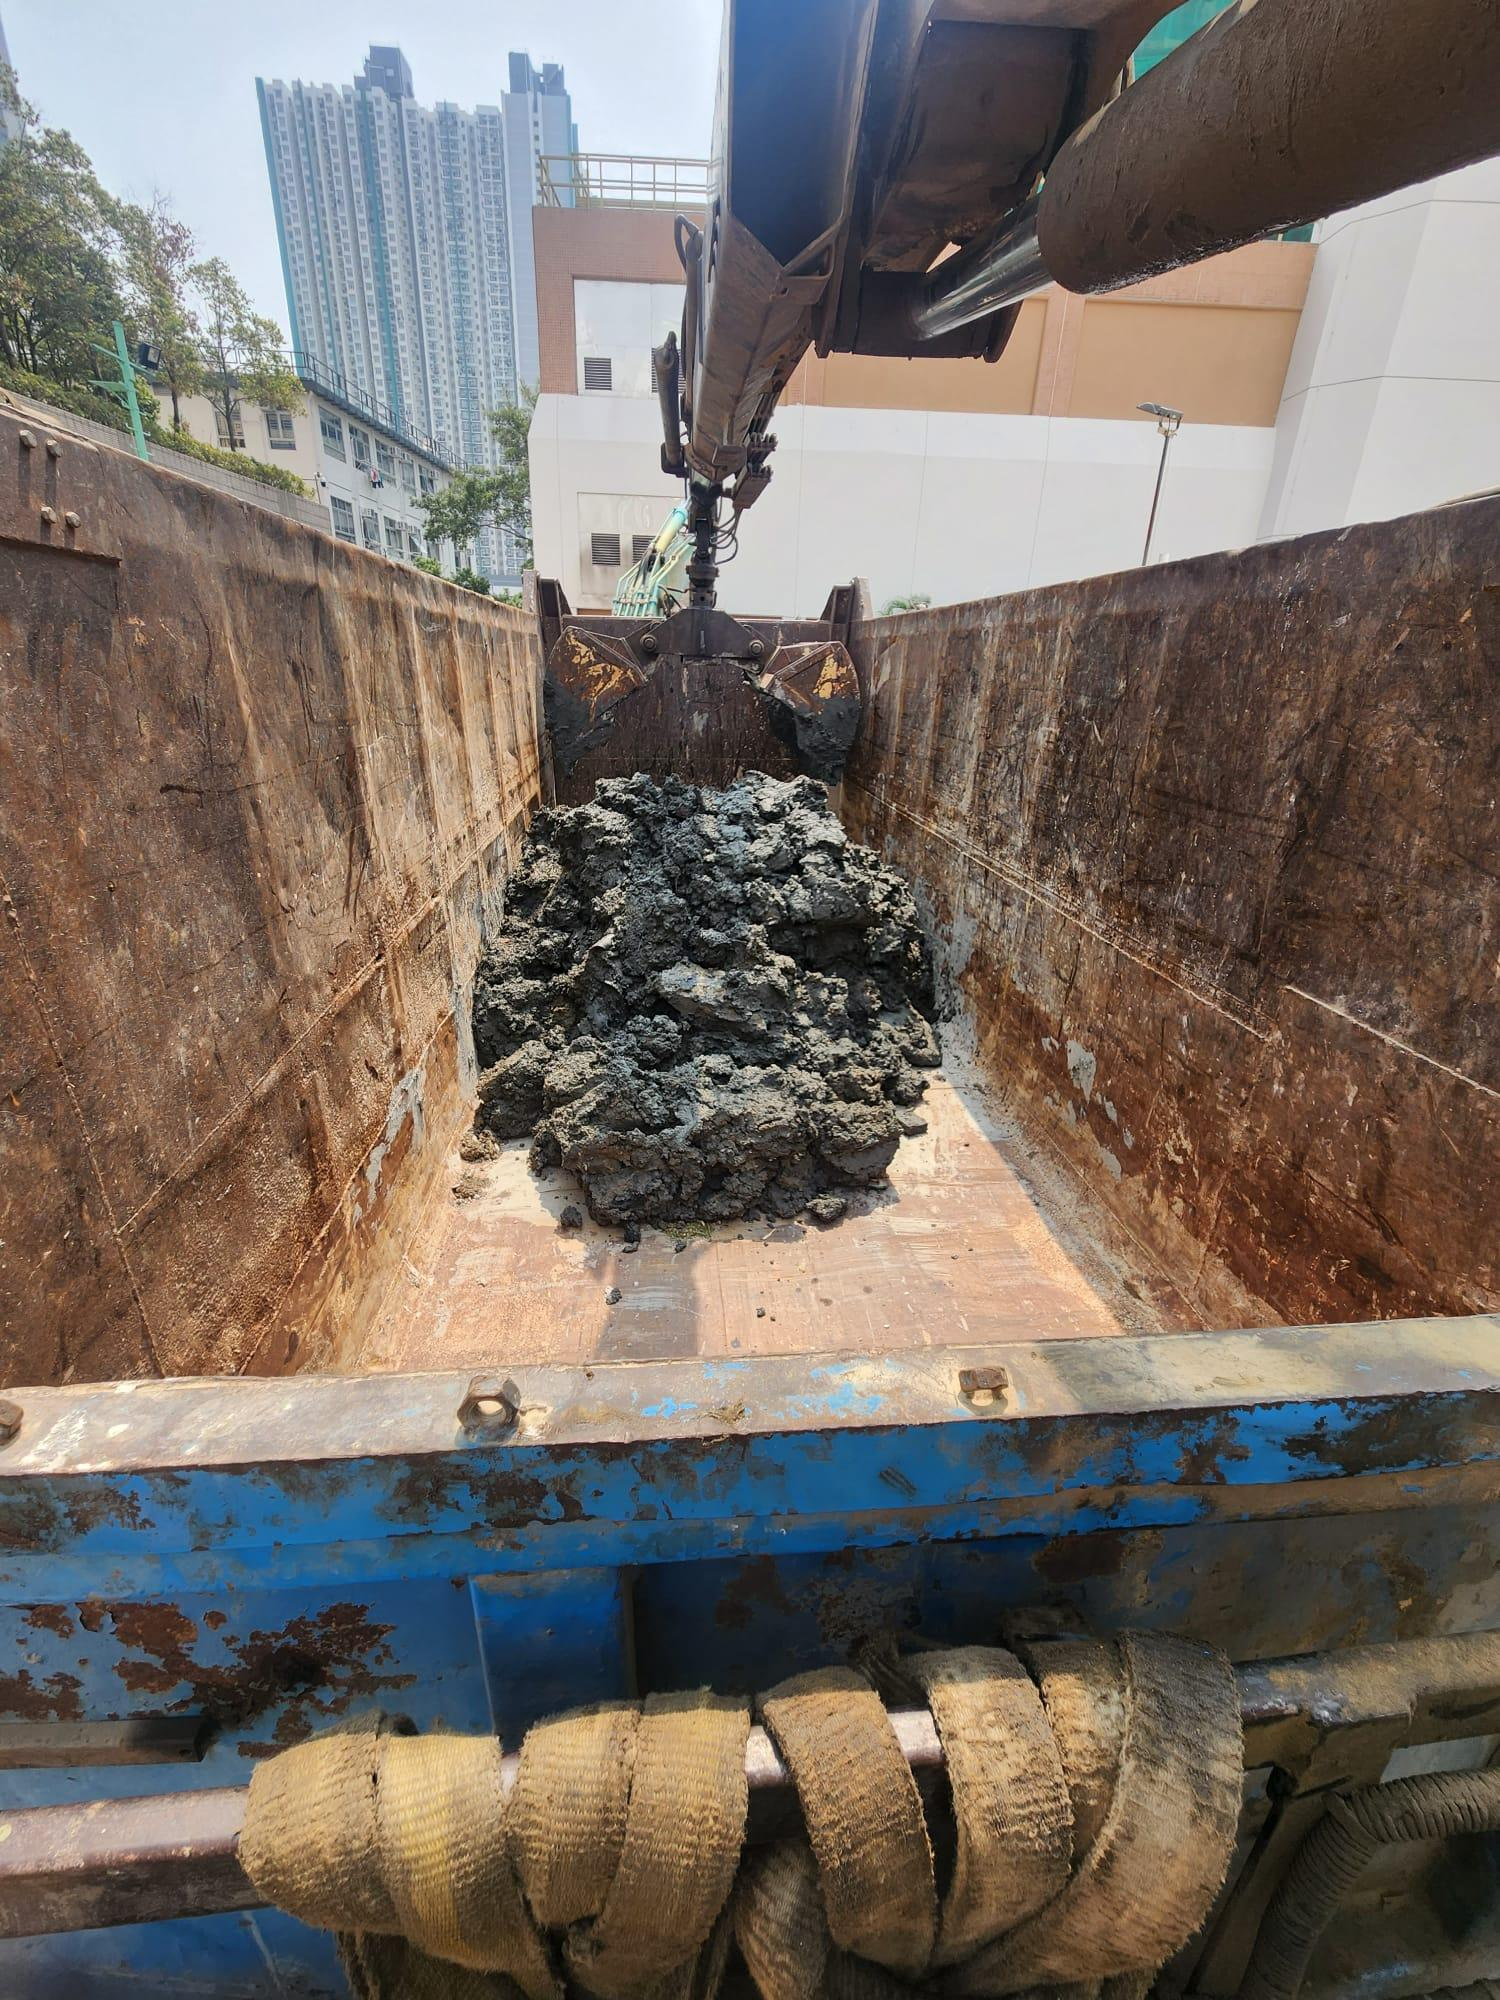wet: (477, 783, 926, 1250)
